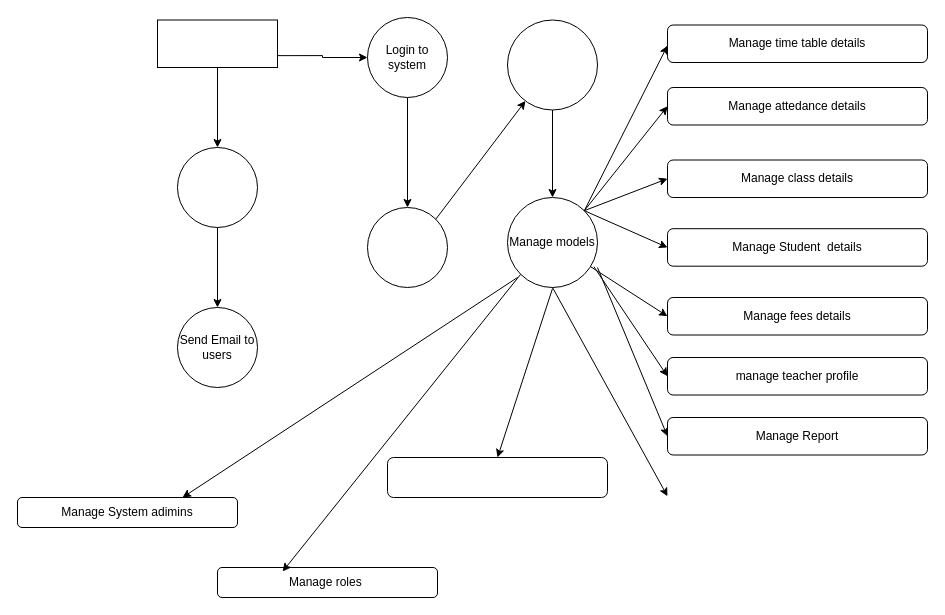
This 945x615 diagram has some shape labels left out. The shapes that lost their labels are listed below. From the top down, each one's centre as x and y in pixels, then its label:
At [217,43]: "Admin".
At [552,64]: "Check roles of acceses".
At [217,187]: "Forgot password".
At [407,247]: "Check ctreditianal".
At [497,477]: "Manage user permission".
